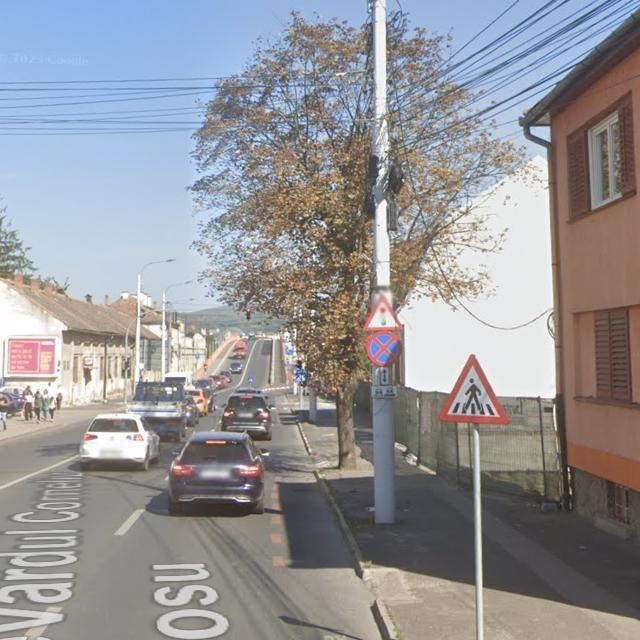forb_waiting: (365, 331, 401, 366)
warn_crosswalk: (436, 353, 511, 425)
